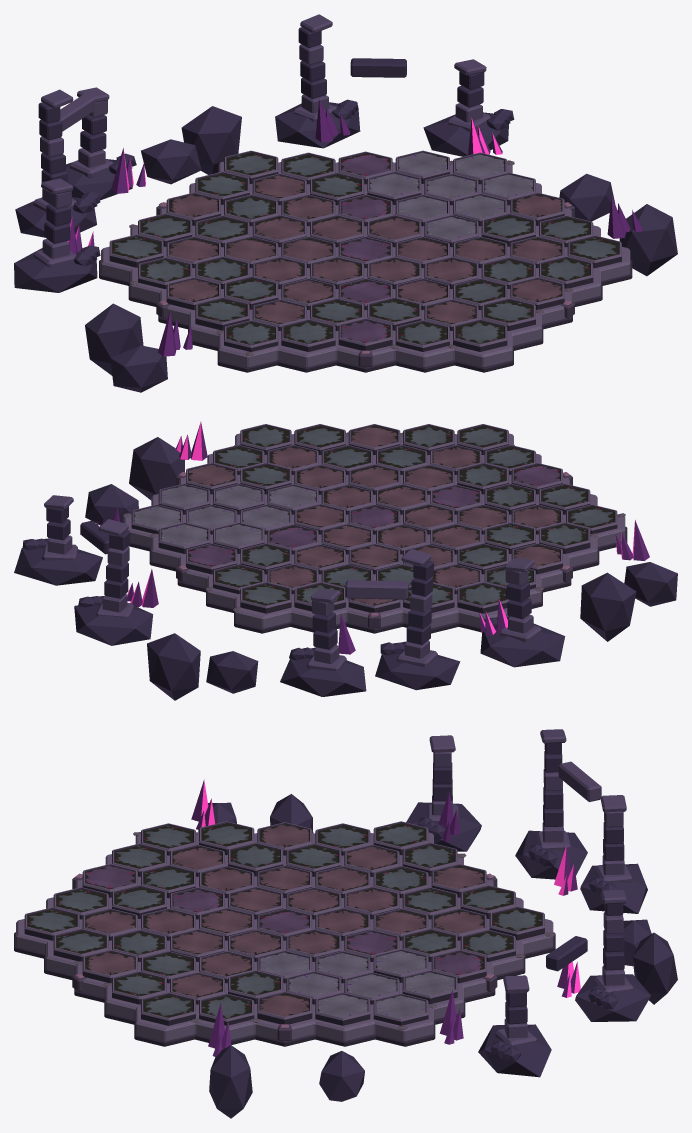
File: Arena_Hexagonal.glb
The picture shows the model from 3 angles, top to bottom: view 1: azimuth 30°, elevation 25°; view 2: azimuth 150°, elevation 25°; view 3: azimuth 270°, elevation 25°; orthographic projection. The views are drawn at different scales.
Visible parts, largest first — view 1: Arena_Background, Arena_Foundation, Corrupted_crystals_periphery, Hex_q-2_r-2, Hex_q-3_r-1, Hex_q+0_r-4, Hex_q-4_r+0, Hex_q-1_r-3, Hex_q-4_r+1, Hex_q-4_r+4, Hex_q+3_r-4, Hex_q+4_r-4 (+53 smaller); view 2: Arena_Background, Arena_Foundation, Corrupted_crystals_periphery, Hex_q+0_r+4, Hex_q-4_r+4, Hex_q+3_r+1, Hex_q-4_r+1, Hex_q+2_r+2, Hex_q-1_r-2, Hex_q+2_r-4, Hex_q+4_r-1, Hex_q+3_r-2 (+53 smaller); view 3: Arena_Background, Arena_Foundation, Corrupted_crystals_periphery, Hex_q+4_r-2, Hex_q+4_r-1, Hex_q+4_r-4, Hex_q+4_r+0, Hex_q+0_r+4, Hex_q+3_r+1, Hex_q+0_r-4, Hex_q+1_r-4, Hex_q+2_r-4 (+53 smaller).
Part boxes in pixels (x1,y1,x2,y2): Arena_Background: (14, 14, 677, 392); Arena_Foundation: (99, 161, 632, 372); Corrupted_crystals_periphery: (67, 98, 642, 356); Hex_q-2_r-2: (338, 318, 392, 350); Hex_q-3_r-1: (281, 319, 335, 351); Hex_q+0_r-4: (453, 319, 507, 351); Hex_q-4_r+0: (224, 320, 278, 351); Hex_q-1_r-3: (395, 320, 449, 351); Hex_q-4_r+1: (195, 297, 249, 330); Hex_q-4_r+4: (109, 234, 163, 267); Hex_q+3_r-4: (539, 256, 593, 288); Hex_q+4_r-4: (567, 235, 621, 268); Arena_Background: (14, 437, 677, 700); Arena_Foundation: (123, 433, 627, 633); Corrupted_crystals_periphery: (96, 421, 649, 654); Hex_q+0_r+4: (240, 582, 291, 613); Hex_q-4_r+4: (457, 582, 508, 613); Hex_q+3_r+1: (158, 522, 210, 553); Hex_q-4_r+1: (539, 522, 590, 553); Hex_q+2_r+2: (186, 543, 237, 574); Hex_q-1_r-2: (457, 463, 508, 494); Hex_q+2_r-4: (348, 424, 400, 454); Hex_q+4_r-1: (158, 483, 210, 514); Hex_q+3_r-2: (240, 463, 291, 494); Arena_Background: (198, 729, 677, 1118); Arena_Foundation: (14, 832, 555, 1046); Corrupted_crystals_periphery: (191, 779, 580, 1056); Hex_q+4_r-2: (257, 991, 312, 1024); Hex_q+4_r-1: (315, 992, 370, 1025); Hex_q+4_r-4: (141, 992, 195, 1025); Hex_q+4_r+0: (373, 993, 428, 1025); Hex_q+0_r+4: (489, 906, 544, 940); Hex_q+3_r+1: (402, 970, 457, 1003); Hex_q+0_r-4: (24, 907, 79, 940); Hex_q+1_r-4: (53, 928, 108, 961); Hex_q+2_r-4: (82, 950, 137, 982).
Bounding box in the file's own units: 19.76 × 5.67 × 19.78.
Materials: 11 (1 with a texture image).
